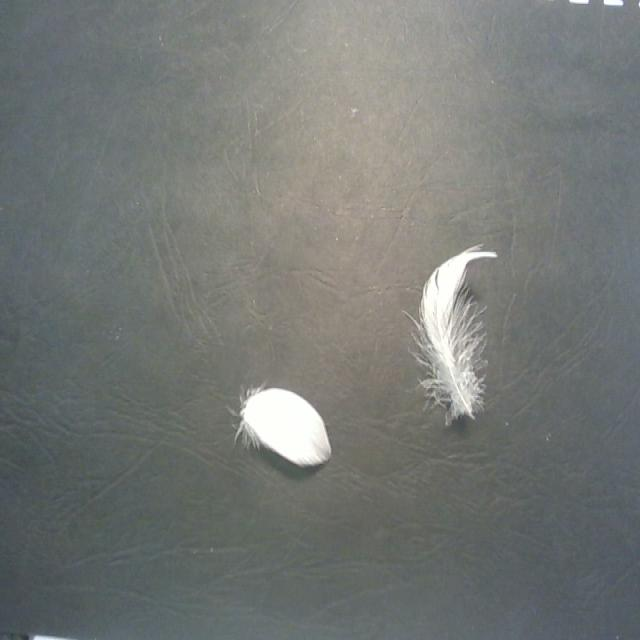feather: (406, 239, 504, 429), (223, 380, 332, 471)
